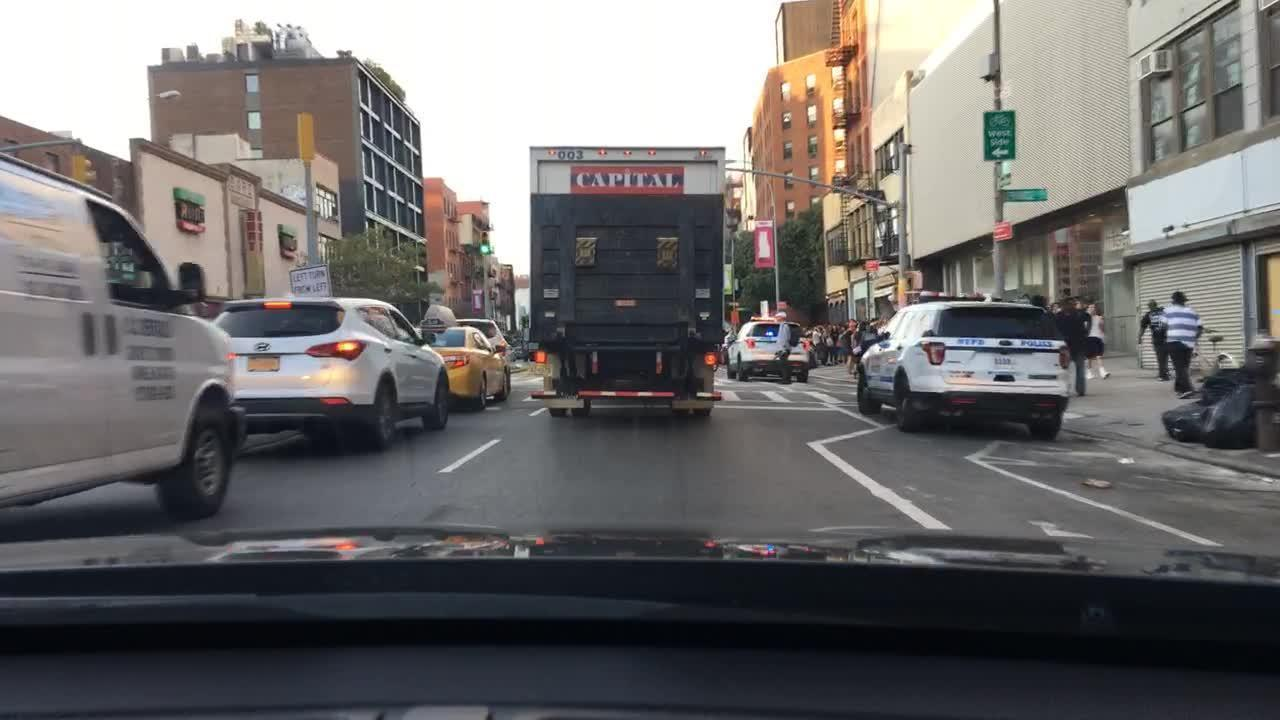Hyundai: (252, 337, 273, 354)
